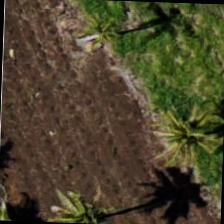Kelapa_Sawit: (145, 86, 223, 181), (43, 172, 137, 223)
